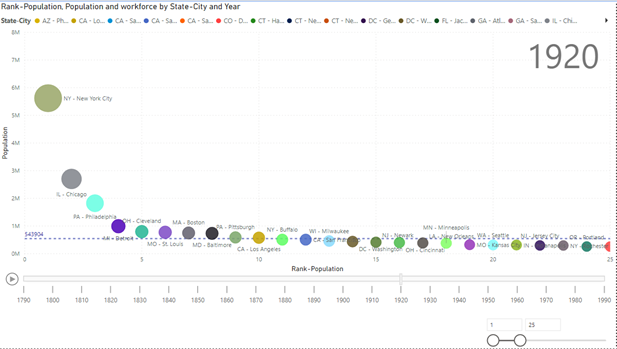

The page's visual inventory and layout, read from the dashboard file:
{"tool":"powerbi","page":{"name":"Top 25 US Cities - Population","canvas":[1280,720],"ordinal":0},"visuals":[{"type":"slicer","fields":{"Values":["FinalList.Rank-Population"]},"box":[999.4,648.2,281,71.8],"z":0},{"type":"scatterChart","fields":{"X":["Sum(FinalList.Rank-Population)"],"Y":["Sum(FinalList.Population)"],"Size":["FinalList.workforce"],"Series":["FinalList.State-City"],"Play":["FinalList.Year"]},"box":[0,0,1280.4,648.2],"z":1}]}

Visuals, with their boxes in screenshot pixels (x1, y1, x2, y2), scaled from the page's 1280x720 canvas onto the 617x349 screenshot:
slicer - FinalList.Rank-Population: <region>482, 314, 616, 348</region>
scatterChart - Sum(FinalList.Rank-Population) x Sum(FinalList.Population): <region>0, 0, 616, 314</region>
